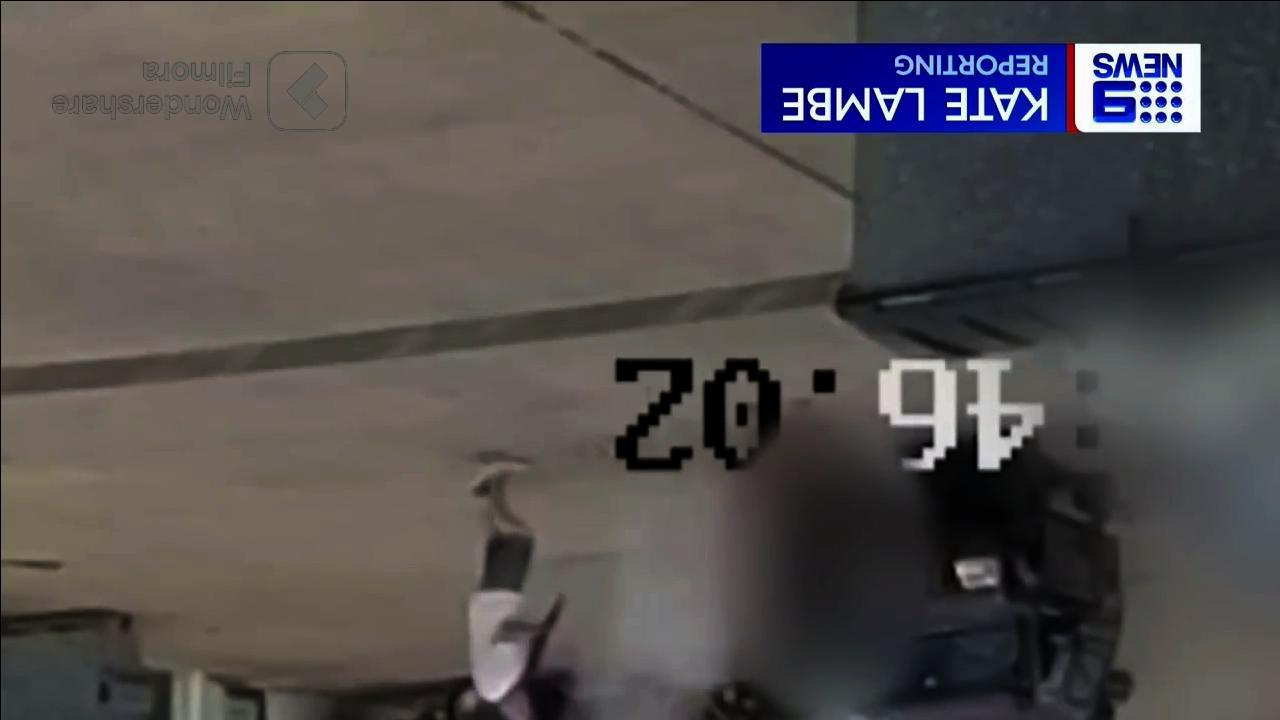gun: (524, 592, 570, 674)
